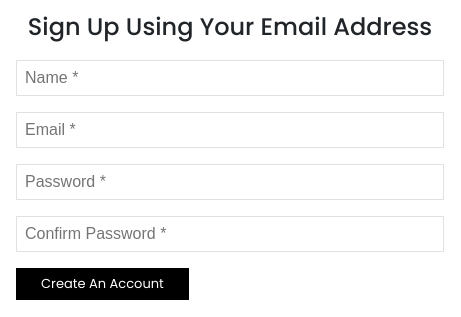
Test: Register page › interactions › displays an error message if the password is not valid
The width and height of the screenshot is (461, 317).
Type "P4ssw" into the password field with placeholder "Password *" at (230, 182), box [16,164,444,200]
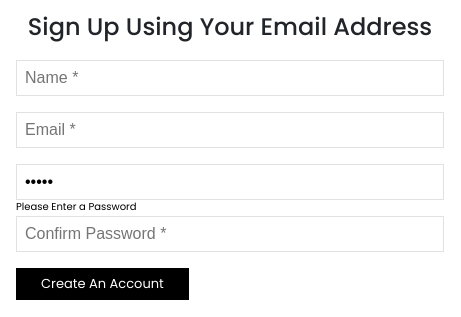
Now the text "Please Enter a Password" is shown, box [16,199,137,215]
